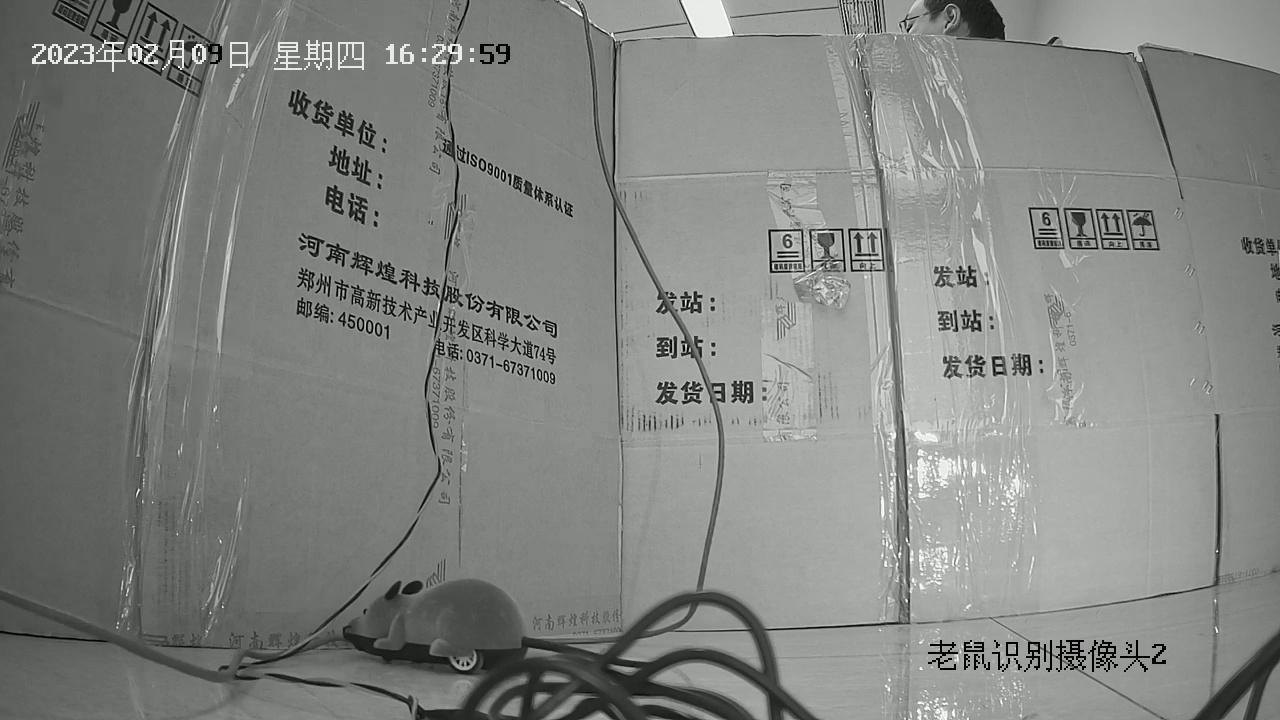rat: (342, 577, 623, 675)
